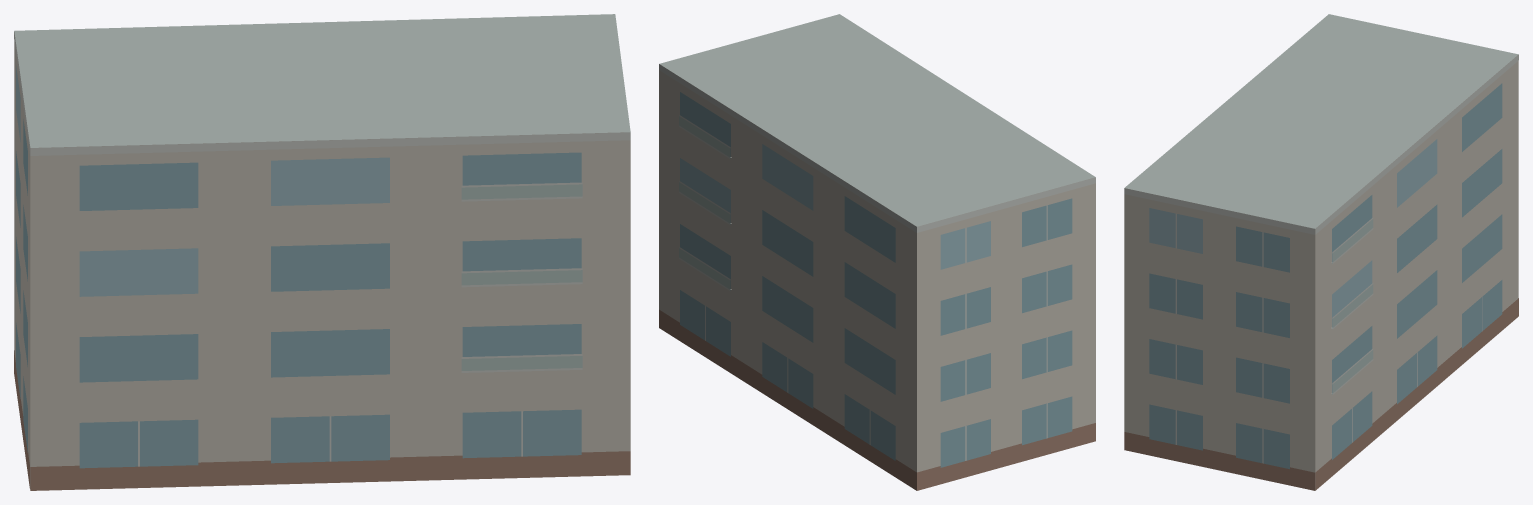
File: survey-upis-32883548.glb
The picture shows the model from 3 angles, left to right: view 1: azimuth 30°, elevation 25°; view 2: azimuth 150°, elevation 25°; view 3: azimuth 270°, elevation 25°; orthographic projection. The views are drawn at different scales.
Visible parts, largest first — view 1: survey-upis-32883548.tmp; view 2: survey-upis-32883548.tmp; view 3: survey-upis-32883548.tmp.
Boxes of the visible parts, <box> form: survey-upis-32883548.tmp: <box>14,14,630,490</box>; survey-upis-32883548.tmp: <box>659,14,1095,490</box>; survey-upis-32883548.tmp: <box>1124,14,1518,490</box>.
Bounding box in the file's own units: 18.29 × 10.4 × 14.2.
